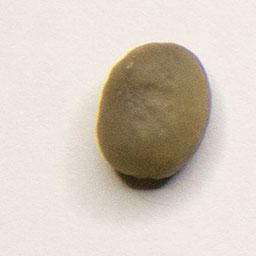peaberry: (93, 38, 213, 183)
